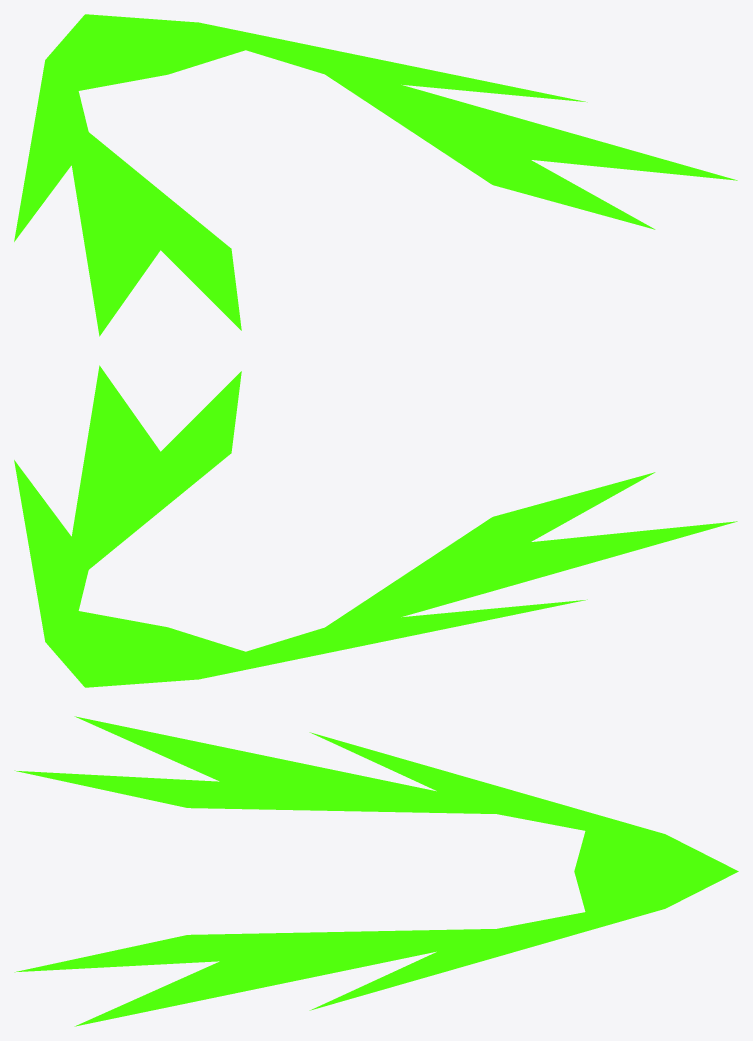
Rendered from EdgeHarbingerGlow.fbx.
3 renders of one model, top to bottom at view 1: azimuth 30°, elevation 25°; view 2: azimuth 150°, elevation 25°; view 3: azimuth 270°, elevation 25°, orthographic.
Parts seen in each view (by area): view 1: Glow; view 2: Glow; view 3: Glow.
Part boxes in pixels (box(x1,y1,x2,y2)): Glow: box(14, 14, 737, 336); Glow: box(14, 365, 737, 687); Glow: box(14, 716, 738, 1026).
Bounding box in the file's own units: 615 × 9.88e-05 × 606.
